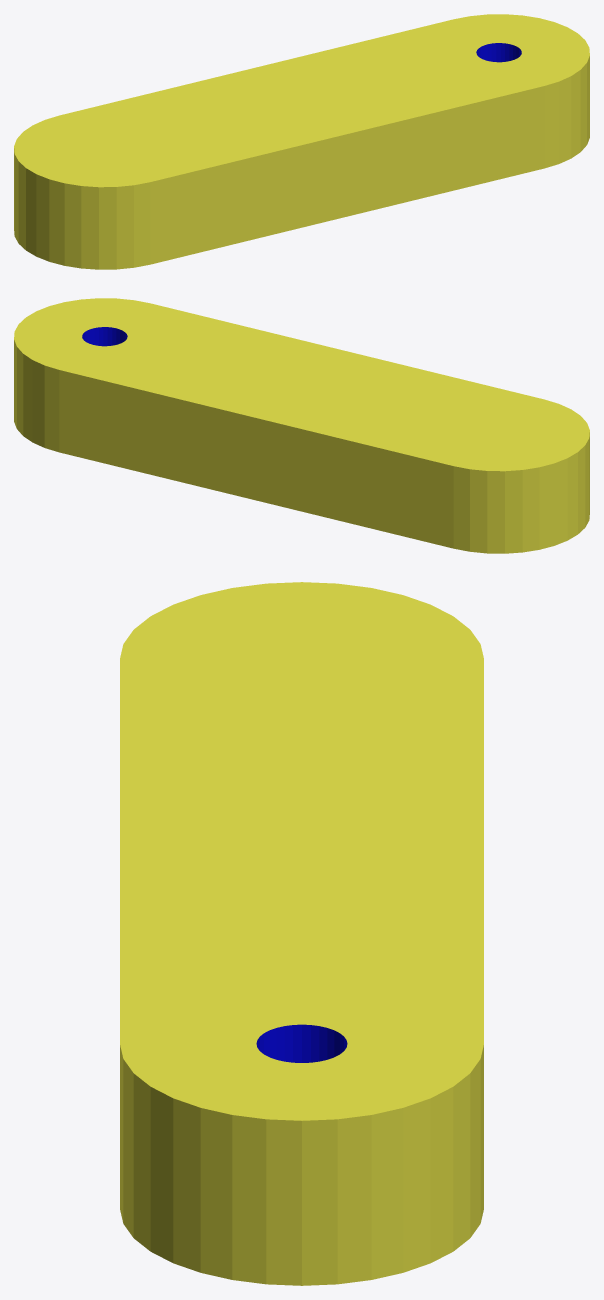
Rendered from scara-link-2.dae.
The picture shows the model from 3 angles, top to bottom: view 1: azimuth 30°, elevation 25°; view 2: azimuth 150°, elevation 25°; view 3: azimuth 270°, elevation 25°; orthographic projection. The views are drawn at different scales.
Parts seen in each view (by area): view 1: Link2; view 2: Link2; view 3: Link2.
Boxes of the visible parts, x1,y1,x2,y2 form: Link2: (14, 14, 589, 269); Link2: (14, 298, 589, 553); Link2: (120, 582, 483, 1285).
Bounding box in the file's own units: 1.4 × 0.4 × 0.2.
